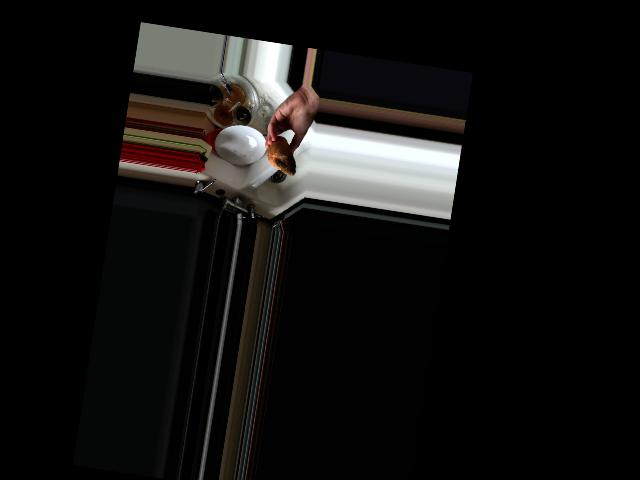sweet_potato: (263, 134, 303, 177)
